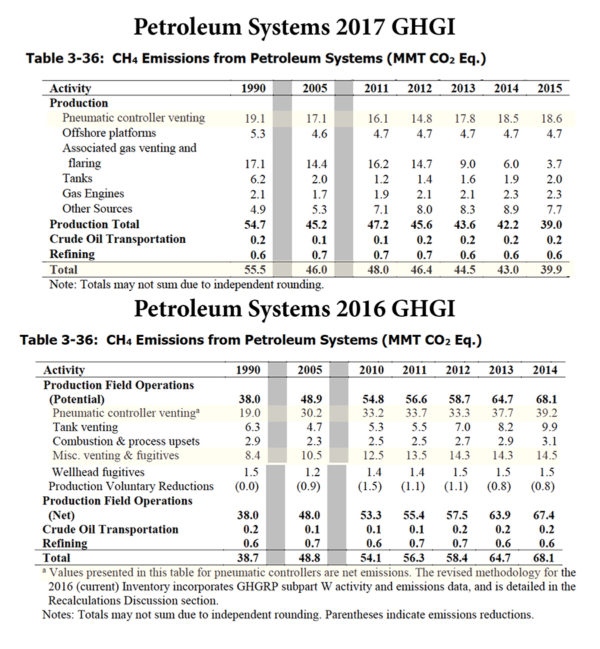fracking table: (19, 296, 572, 568), (26, 14, 585, 280)
